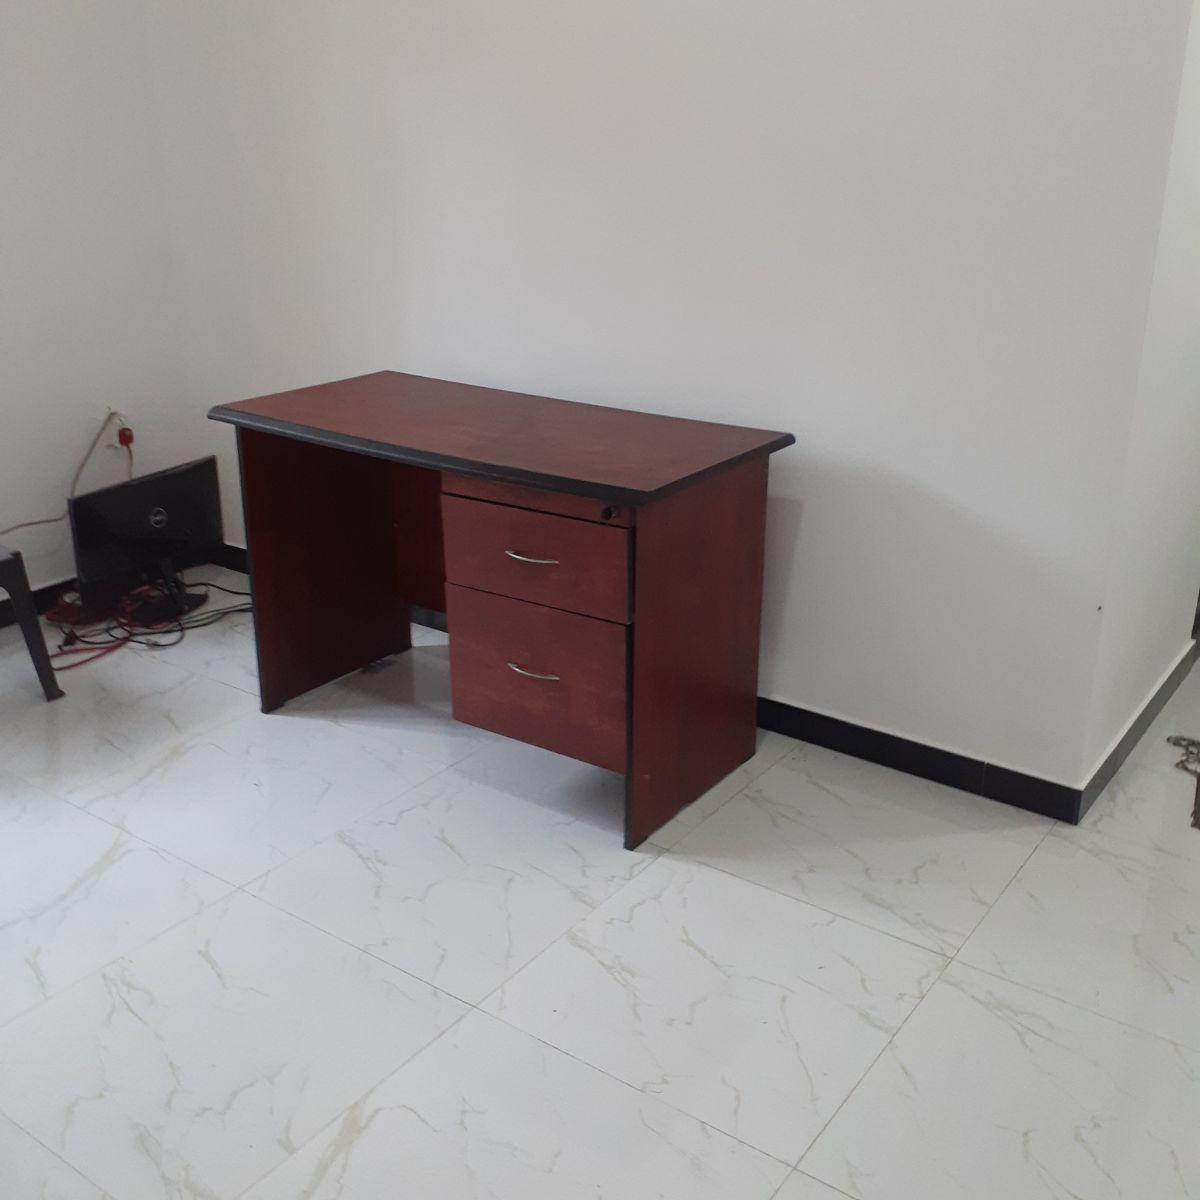Table: (180, 344, 840, 868)
